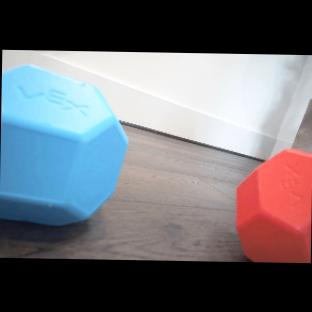V5_BLUE: (0, 64, 130, 228)
V5_RED: (234, 149, 312, 263)
